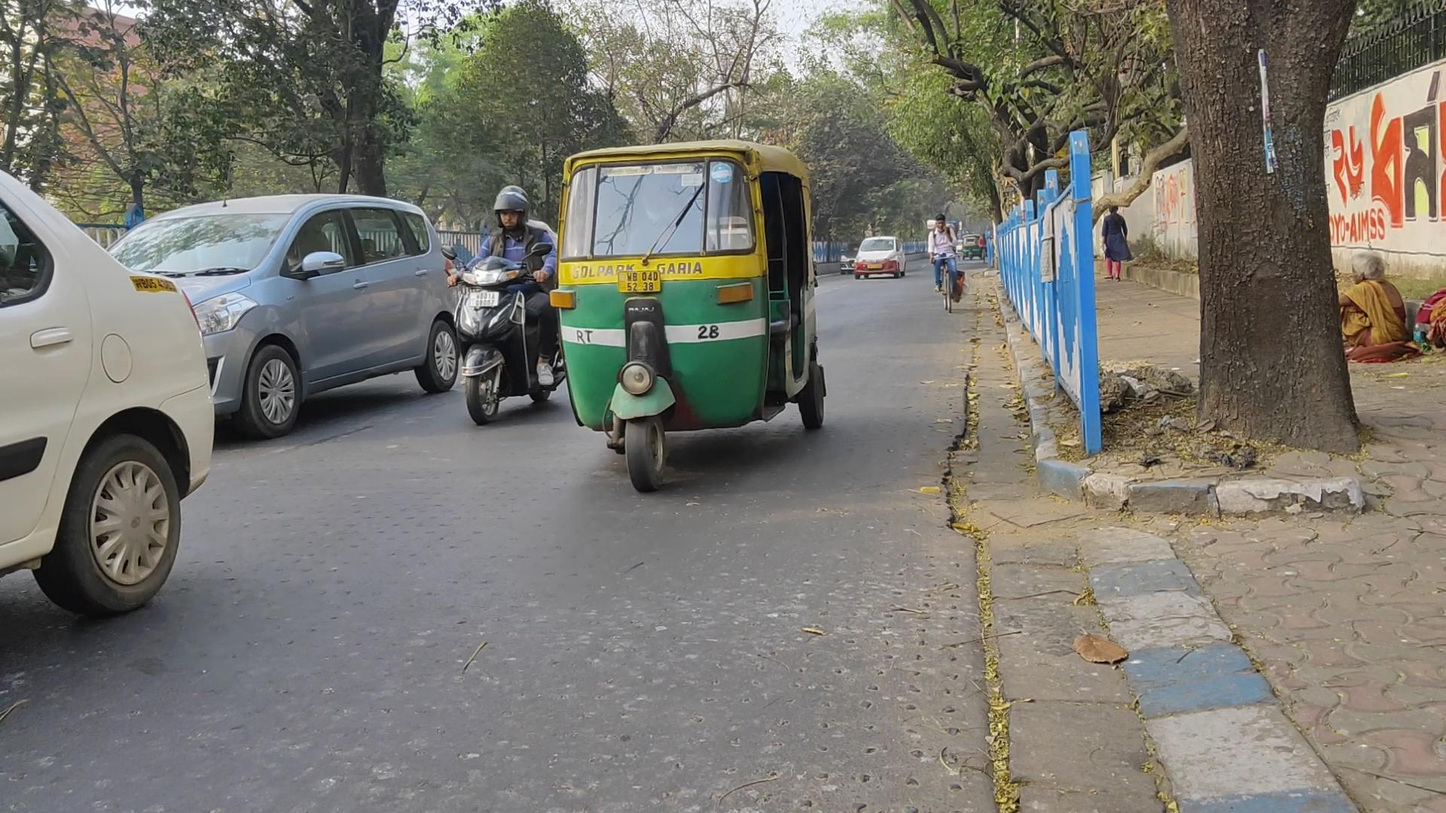Auto: (549, 139, 828, 493), (961, 234, 984, 260)
bike: (441, 187, 582, 424), (928, 215, 966, 313), (978, 233, 988, 263)
car: (1, 163, 215, 650), (91, 192, 459, 443), (854, 235, 907, 280)
